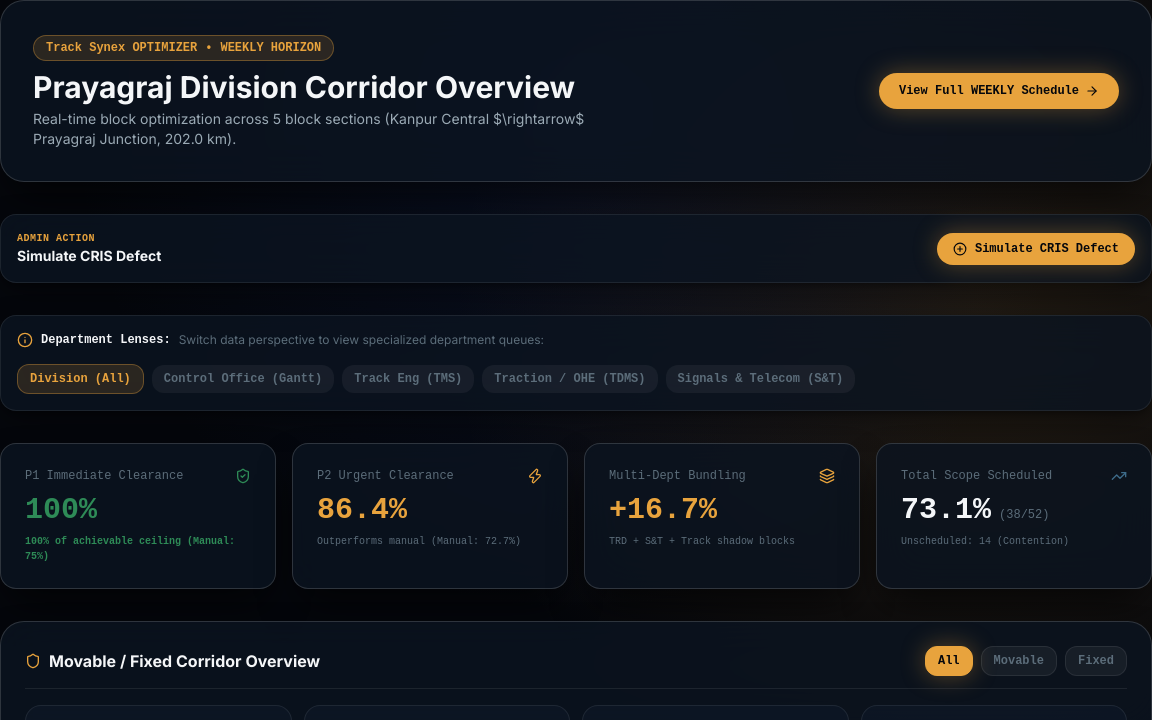
Test: OverviewView corridor lens › shows live movable and fixed counts for each corridor section
Expected: the button "All" is shown, [925,646,973,676]
Expected: the button "Movable" is shown, [981,646,1057,676]
Click the button "Fixed".
click(1096, 661)  # box [1065,646,1127,676]
(page scrolled)
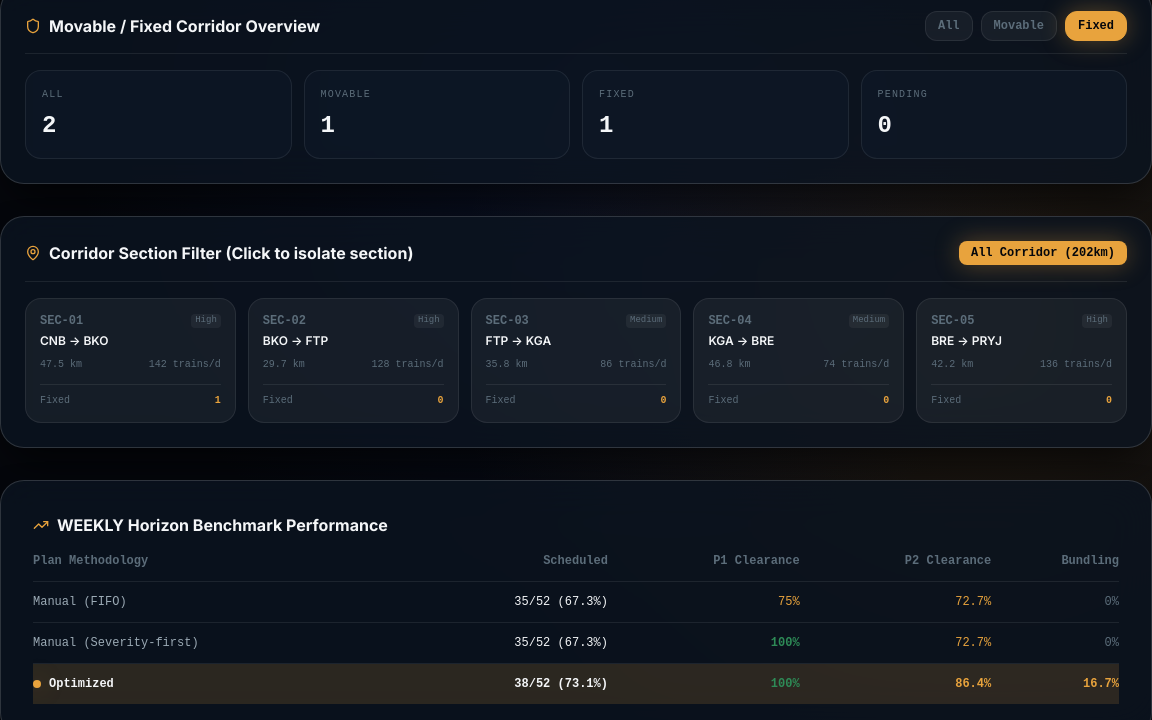
Expected: the button "SEC-01 High CNB → BKO 47.5 km 142 trains/d Fixed 1" is shown, [25,298,236,423]
